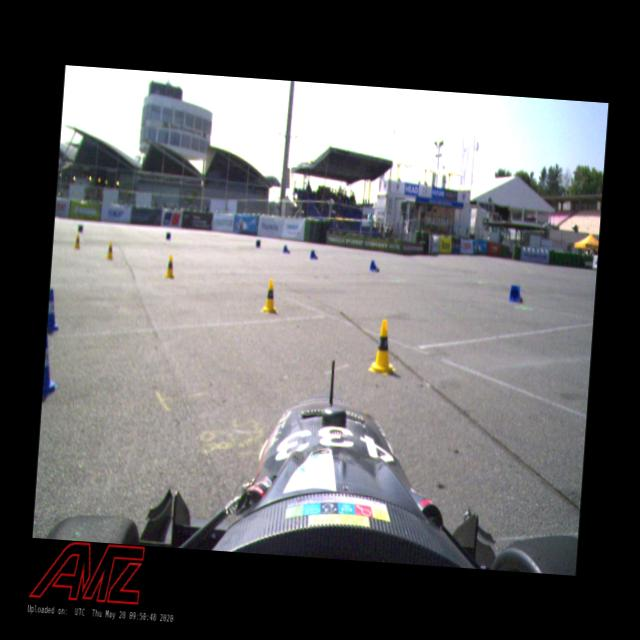blue_cone: (42, 332, 61, 395), (46, 288, 61, 332), (507, 284, 524, 302), (368, 258, 380, 272), (309, 249, 318, 260), (282, 244, 291, 254)
yellow_cone: (368, 318, 398, 374), (260, 278, 278, 314), (162, 254, 176, 279), (104, 239, 114, 260), (72, 232, 82, 250)
